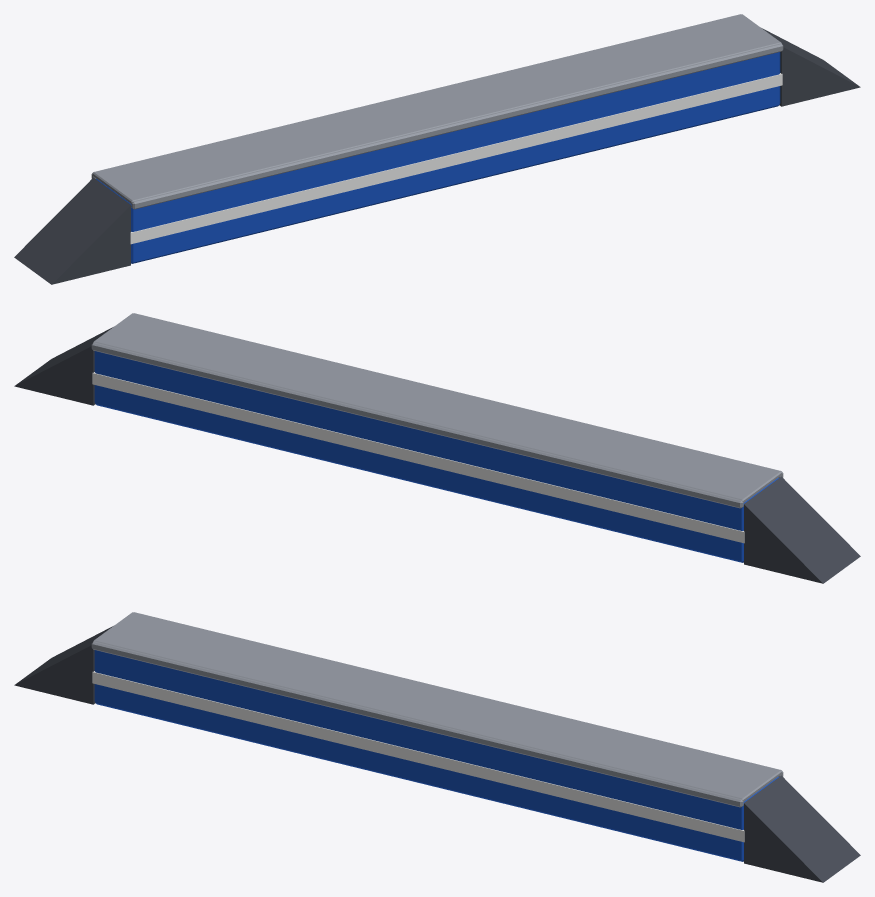
Rendered from grind_box.obj.
3 views of the same model, one above another, from view 1: azimuth 30°, elevation 25°; view 2: azimuth 150°, elevation 25°; view 3: azimuth 330°, elevation 25° (orthographic).
Parts seen in each view (by area): view 1: grind_box; view 2: grind_box; view 3: grind_box.
Part boxes in pixels (x1,y1,x2,y2): grind_box: (14, 14, 860, 284); grind_box: (14, 313, 860, 583); grind_box: (14, 612, 860, 882).
Bounding box in the file's own units: 22.4 × 1.72 × 2.04.
Materials: 1 (1 with a texture image).
